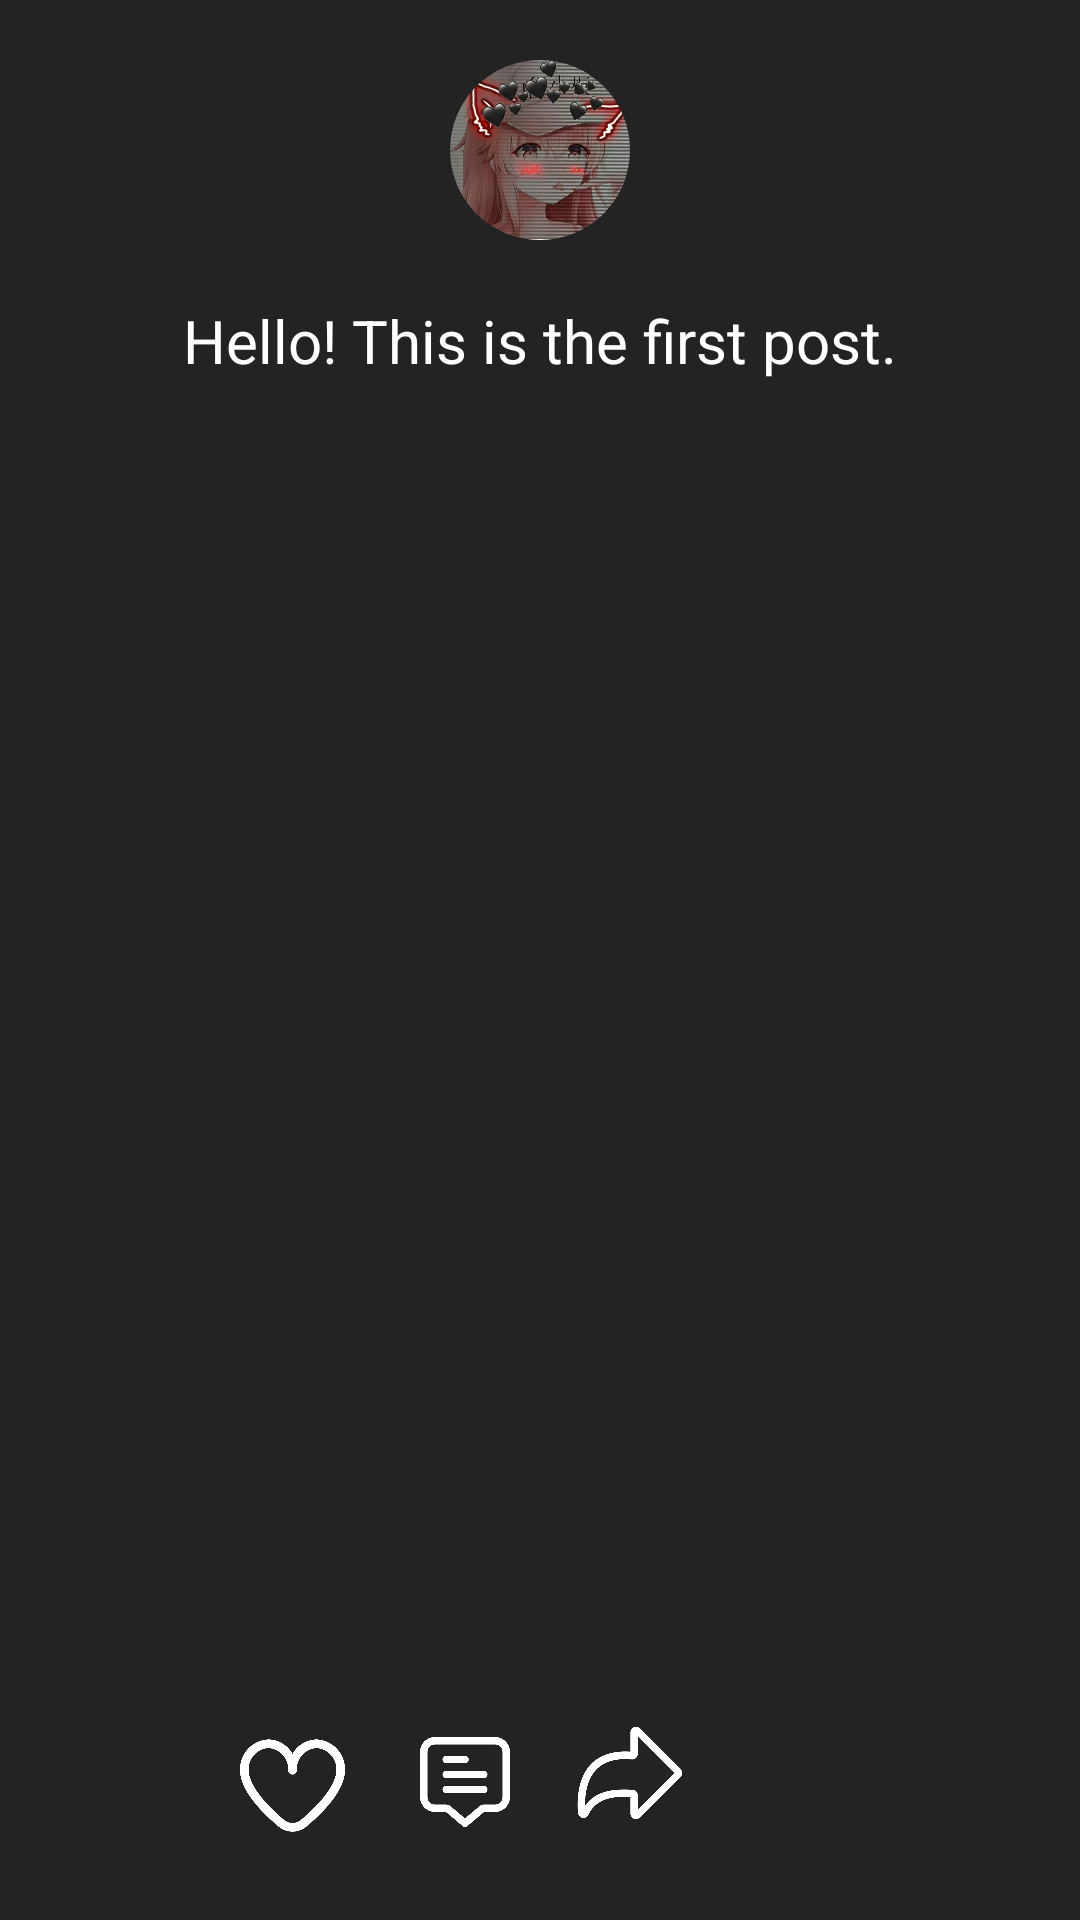

Named icons in this screenshot (1080×1920) and their centers, (x,y):
comment: (465,1782)
like: (292,1785)
repost: (629,1773)
